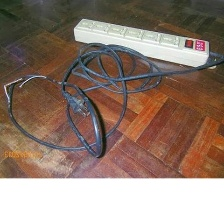three_eye_plug: (67, 14, 215, 70)
